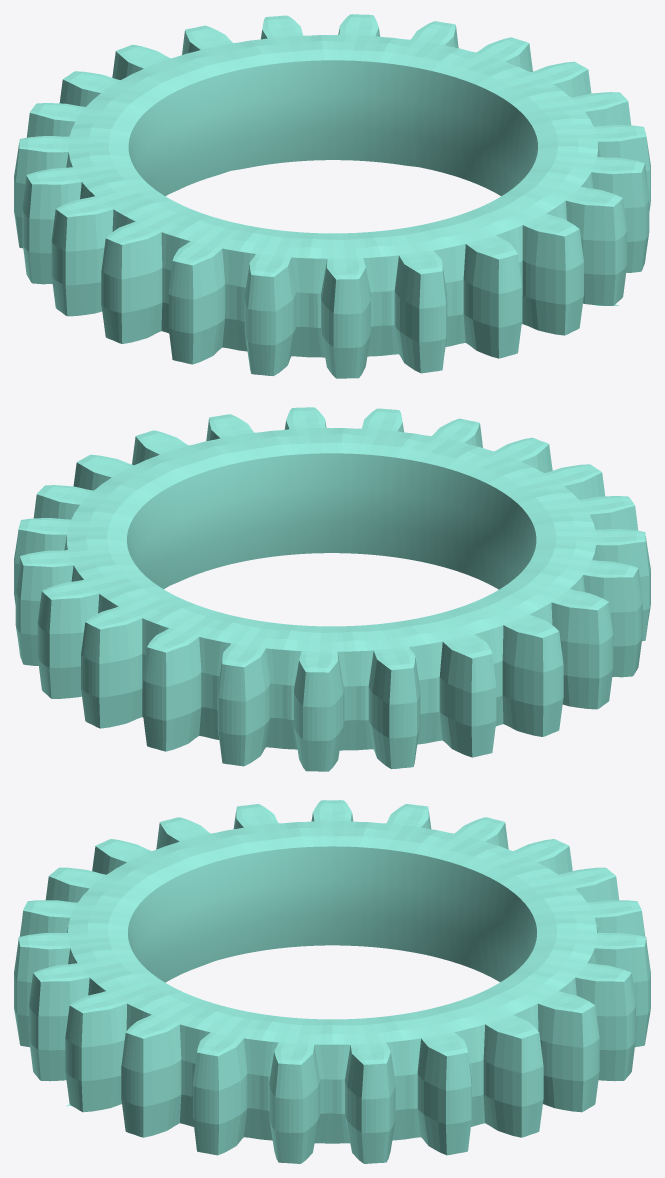
The model's file is Gear.gltf.
The picture shows the model from 3 angles, top to bottom: view 1: azimuth 30°, elevation 25°; view 2: azimuth 150°, elevation 25°; view 3: azimuth 270°, elevation 25°; orthographic projection.
Visible parts, largest first — view 1: Gear; view 2: Gear; view 3: Gear.
Boxes of the visible parts, <box> form: Gear: <box>14,14,650,378</box>; Gear: <box>14,407,650,771</box>; Gear: <box>14,800,650,1163</box>.
Size of the model in its own units: 2.33 by 0.4239 by 2.33.
